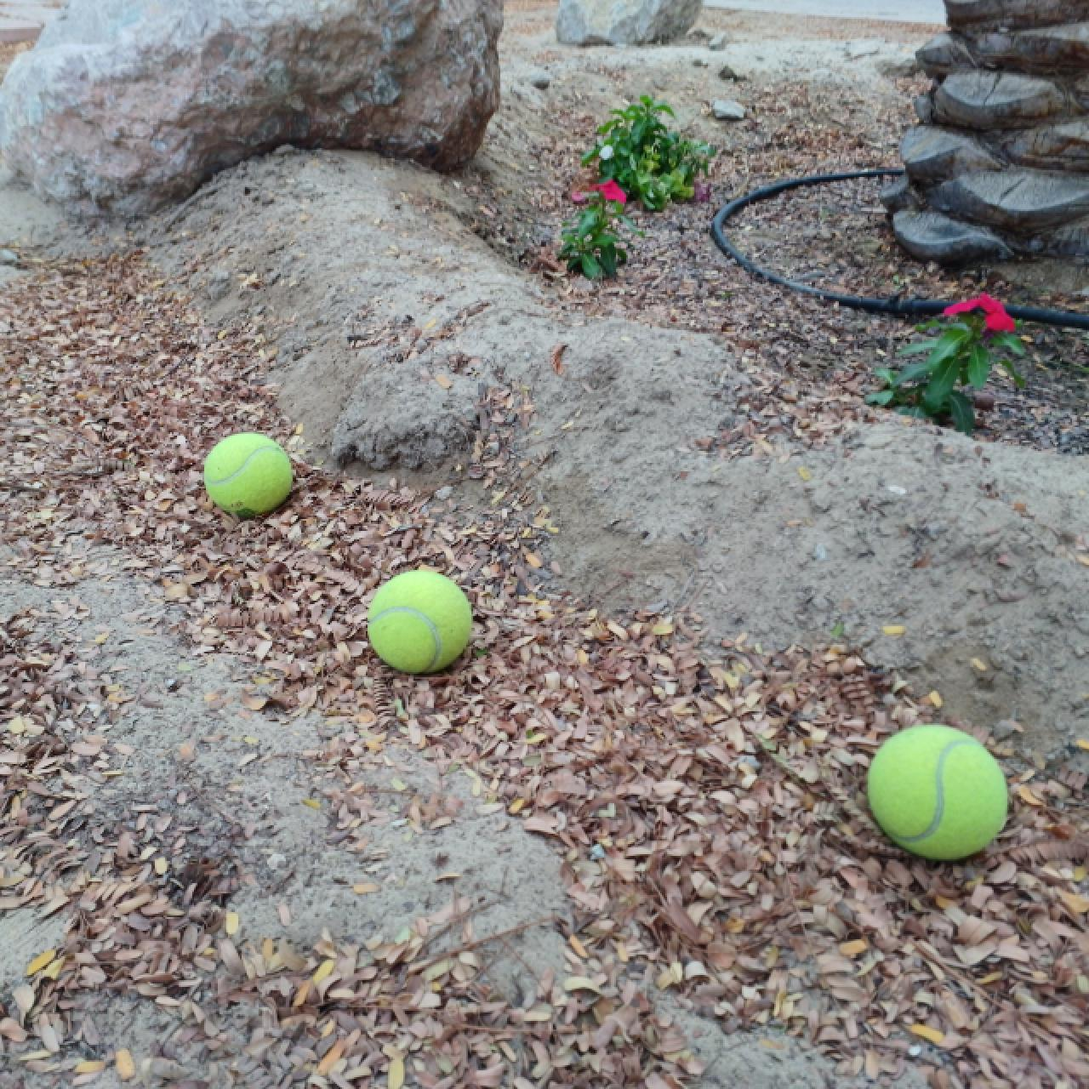tennis-ball: (862, 719, 1010, 863), (365, 568, 475, 676), (203, 430, 294, 518)
